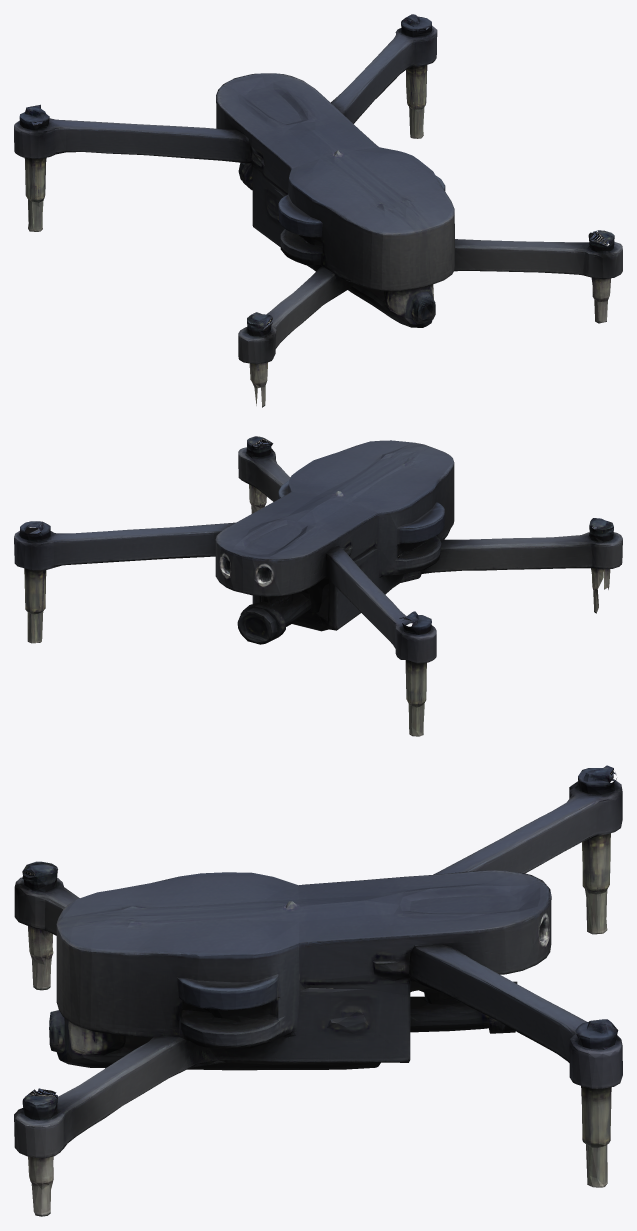
File: drone14.glb
3 views of the same model, one above another, from view 1: azimuth 30°, elevation 25°; view 2: azimuth 150°, elevation 25°; view 3: azimuth 270°, elevation 25° (orthographic). The views are drawn at different scales.
Parts seen in each view (by area): view 1: world; view 2: world; view 3: world.
Part boxes in pixels (box(x1,y1,x2,y2)): world: box(14, 14, 622, 407); world: box(14, 436, 622, 736); world: box(14, 765, 622, 1216).
Size of the model in its own units: 0.6476 by 0.2235 by 0.5995.
Materials: 1 (1 with a texture image).
